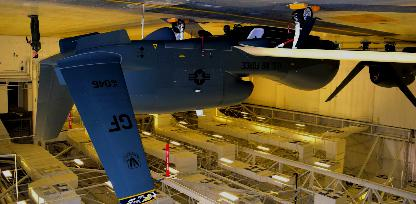P3: (29, 5, 415, 203), (324, 42, 415, 111)
